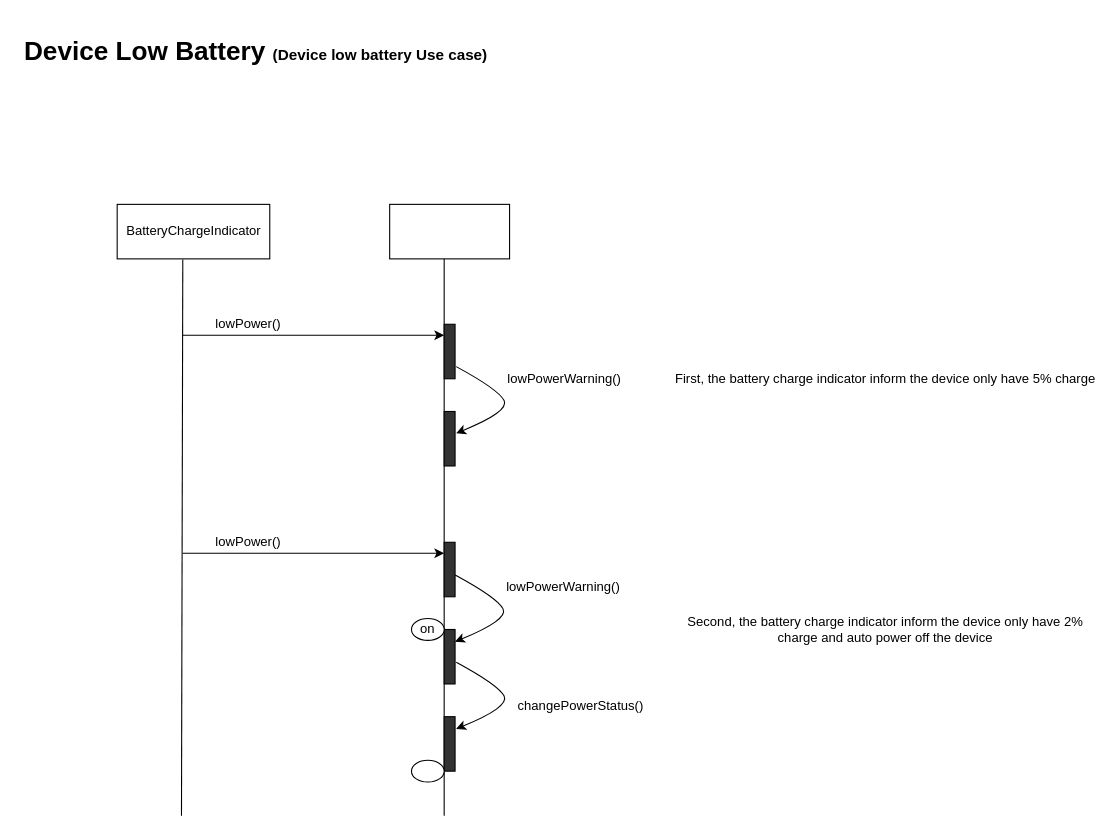
Some shapes in this 1116 by 836 pixel diagram are drawn without their labels. Each missing label, with the centre of its shape:
"MainWindow" goes at pixel 449 231.
"off" goes at pixel 427 770.
